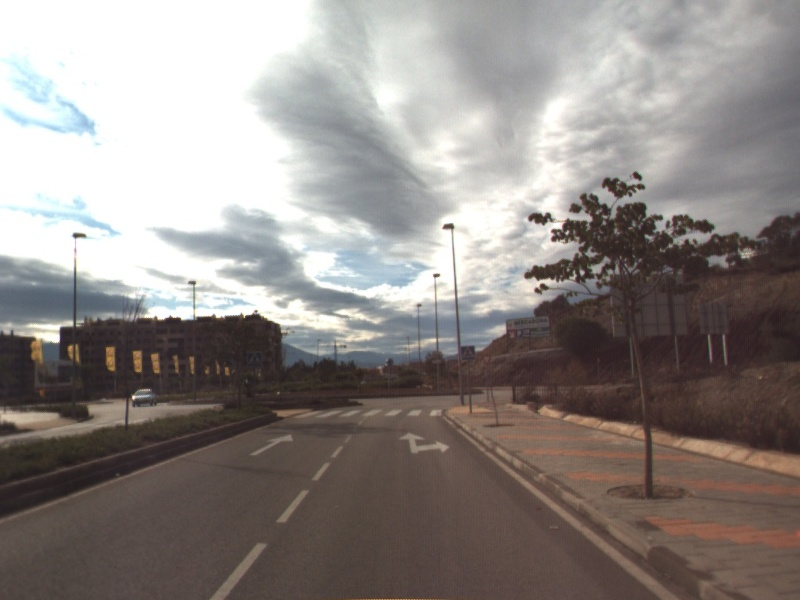STRAIGHT: (247, 432, 295, 457)
STRAIGHT_RIGHT: (397, 430, 452, 455)
